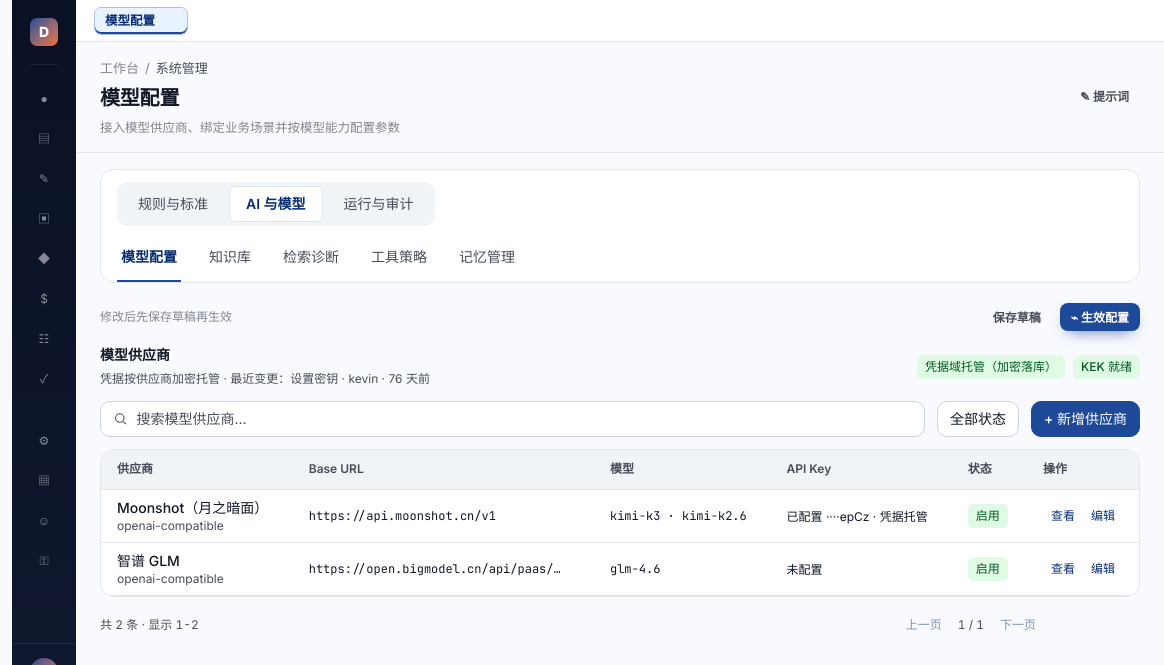
Test case: System management navigation › 页签条两级：一级分组切换 + 组内只显本组子页
Expected: the tab "AI 与模型" is shown, [229,186,323,222]
Expected: the tab "运行与审计" is shown, [327,186,431,222]
切换分组 → 跳到目标分组默认子页（URL 驱动，非局部状态）
Click the tab "规则与标准". click: (173, 204)
box: [121,186,225,222]
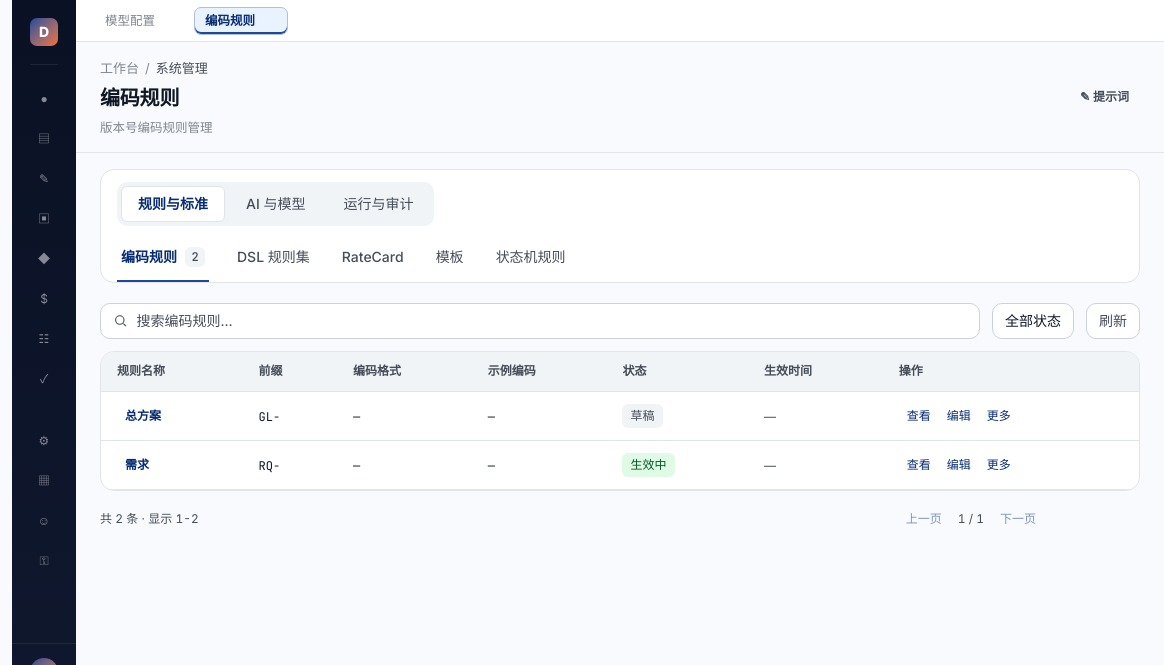
Result: the heading "编码规则" is shown at [100,86,179,110]
